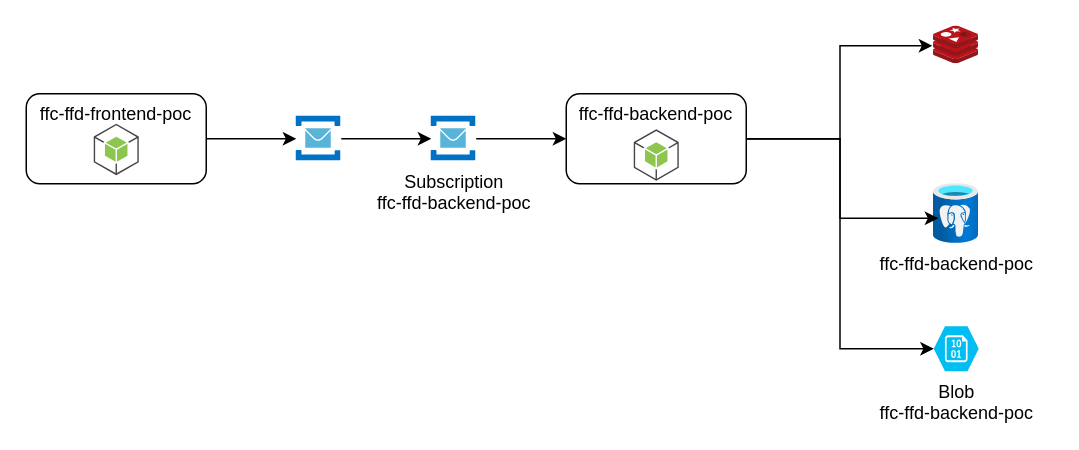
This 1079x450 diagram has some shape labels left out. The centre of each missing label's shape, as x and y in pixels:
"Cache ffc-ffd-backend-poc:data" belongs at [955,44].
"Topic ffc-ffd-data" belongs at [318,138].
